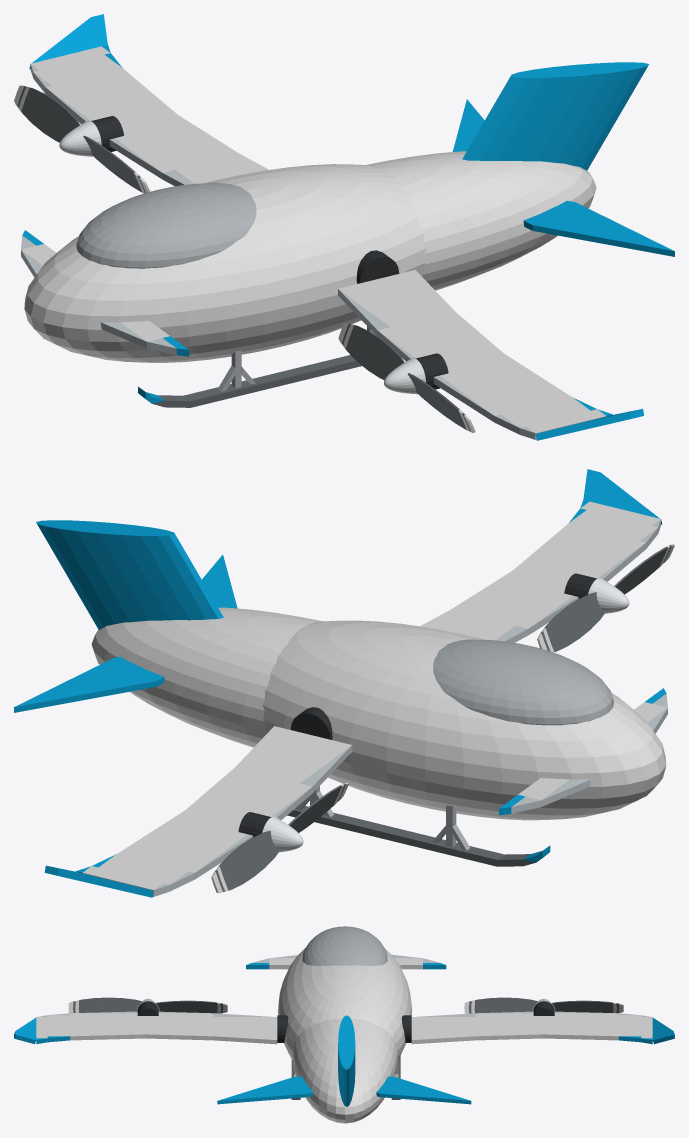
The model's file is carpeXL.obj.
The picture shows the model from 3 angles, top to bottom: view 1: azimuth 30°, elevation 25°; view 2: azimuth 150°, elevation 25°; view 3: azimuth 270°, elevation 25°; orthographic projection. The views are drawn at different scales.
Parts seen in each view (by area): view 1: obj_0; view 2: obj_0; view 3: obj_0.
Boxes of the visible parts, x1=… form: obj_0: x1=14, y1=14, x2=674, y2=440; obj_0: x1=14, y1=469, x2=674, y2=897; obj_0: x1=14, y1=926, x2=674, y2=1123.
Size of the model in its own units: 96 by 31 by 145.
